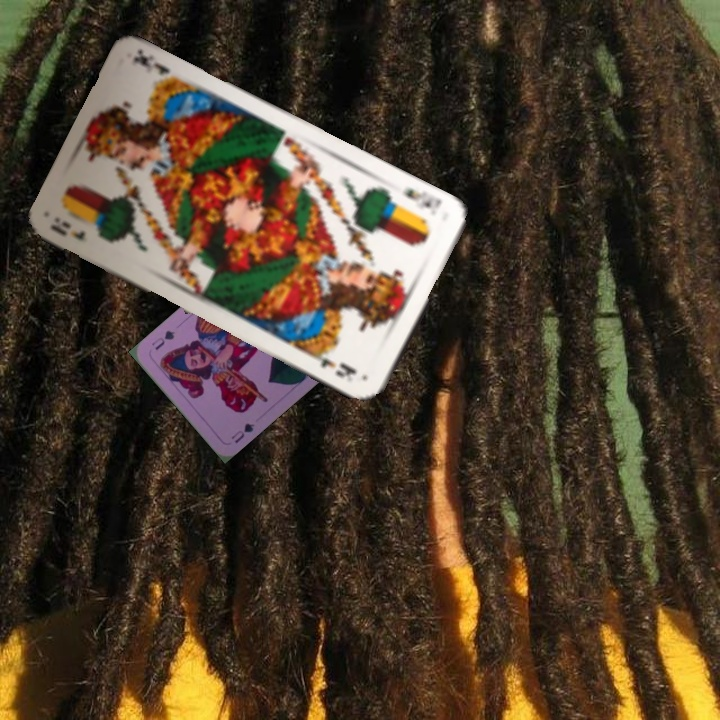EK: (398, 184, 444, 219), (48, 214, 88, 243)
GU: (227, 419, 257, 446)
